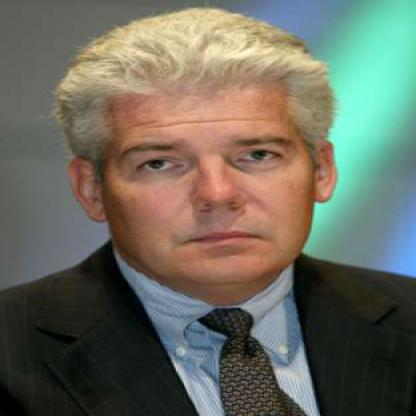face: (97, 34, 321, 292)
